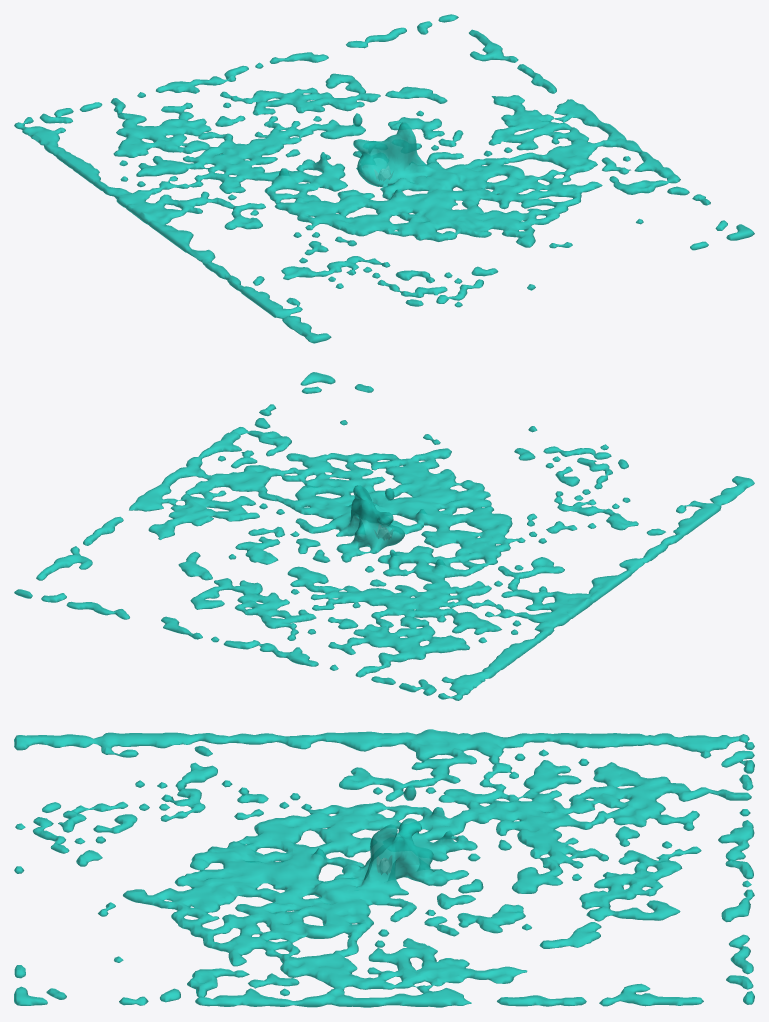
The picture shows the model from 3 angles, top to bottom: view 1: azimuth 30°, elevation 25°; view 2: azimuth 150°, elevation 25°; view 3: azimuth 270°, elevation 25°; orthographic projection. The views are drawn at different scales.
Visible parts, largest first — view 1: Liquid_Domain; view 2: Liquid_Domain; view 3: Liquid_Domain.
Part boxes in pixels (<box>): Liquid_Domain: <box>14,14,754,343</box>; Liquid_Domain: <box>14,372,754,700</box>; Liquid_Domain: <box>14,729,754,1007</box>.
Size of the model in its own units: 12.43 by 1.72 by 14.41.
